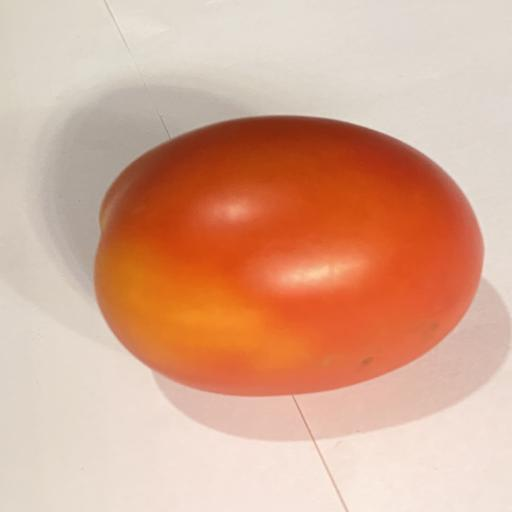ripe: (94, 116, 483, 396)
